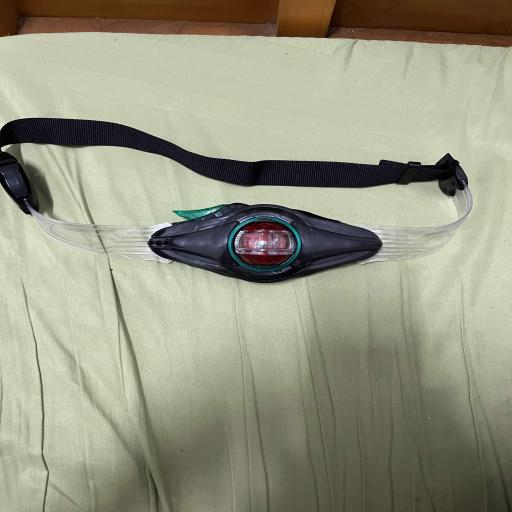zeztzdriver: (0, 118, 472, 283)
